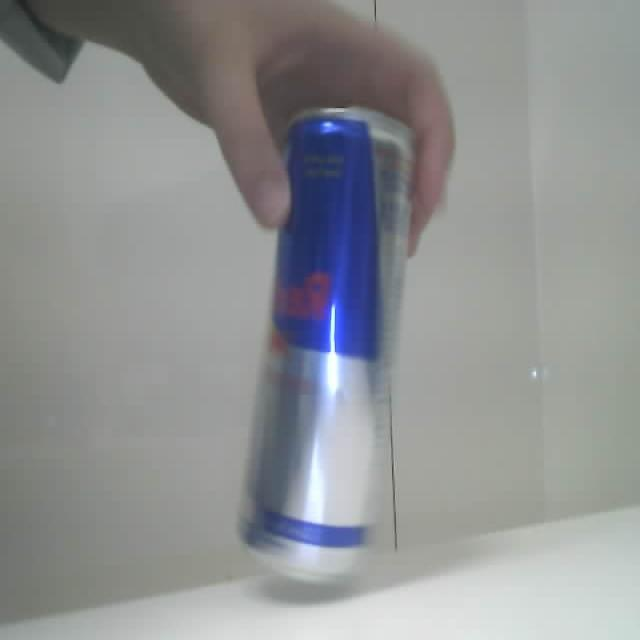redbull can: (241, 108, 412, 581)
